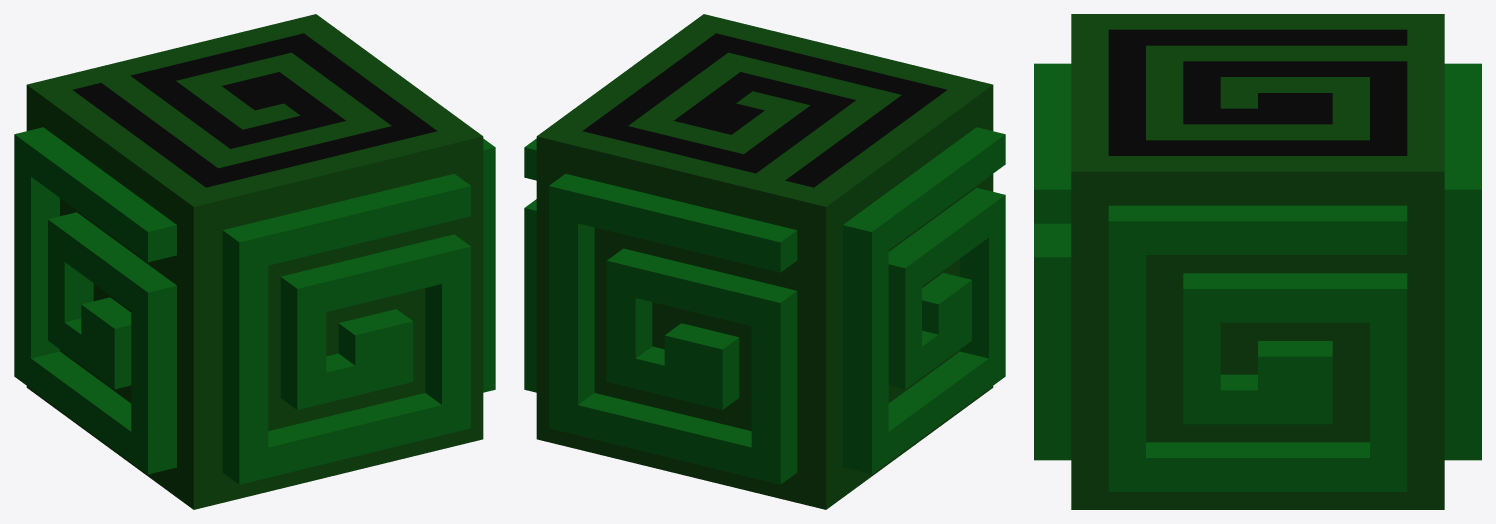
The model's file is Ground_2.fbx.
3 renders of one model, left to right at view 1: azimuth 30°, elevation 25°; view 2: azimuth 150°, elevation 25°; view 3: azimuth 270°, elevation 25°, orthographic. The views are drawn at different scales.
Parts seen in each view (by area): view 1: Tree_1; view 2: Tree_1; view 3: Tree_1.
Boxes of the visible parts, x1,y1,x2,y2 form: Tree_1: [14, 14, 495, 509]; Tree_1: [524, 14, 1005, 509]; Tree_1: [1034, 14, 1481, 509].
Size of the model in its own units: 62.29 by 51.91 by 62.29.
